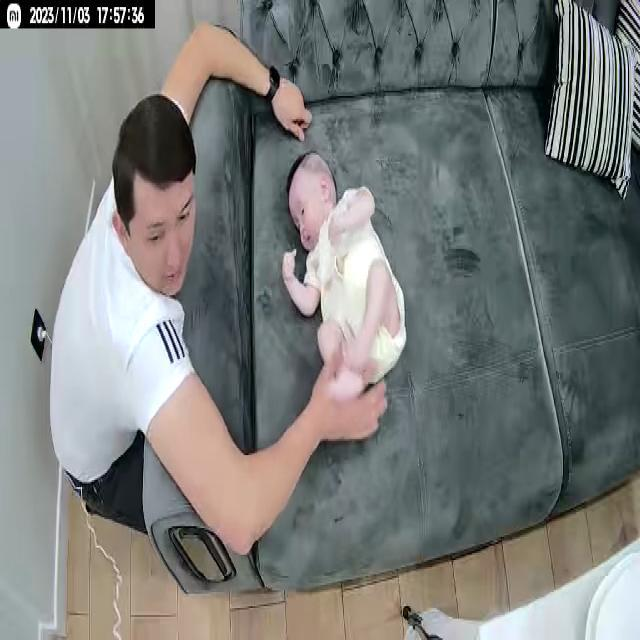baby: (278, 146, 412, 408)
